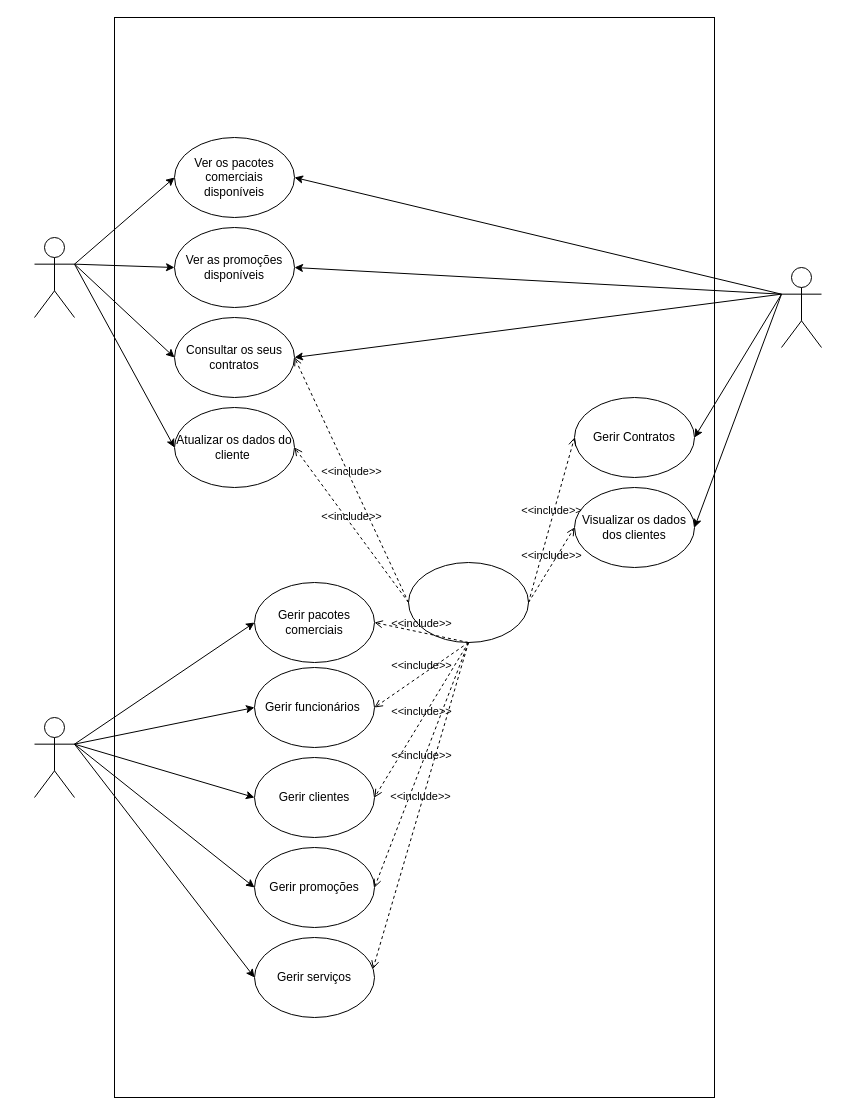
The diagram is 844 pixels wide and 1115 high, and some of its shapes have lost their labels. Each missing label, with the centre of its shape:
Administrador: point (54, 757)
Clientes: point (54, 277)
Login Valido: point (468, 602)
Operador: point (801, 307)
